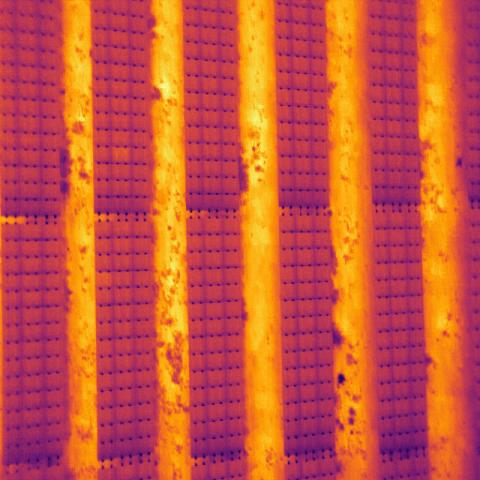fault: (112, 146, 130, 164)
